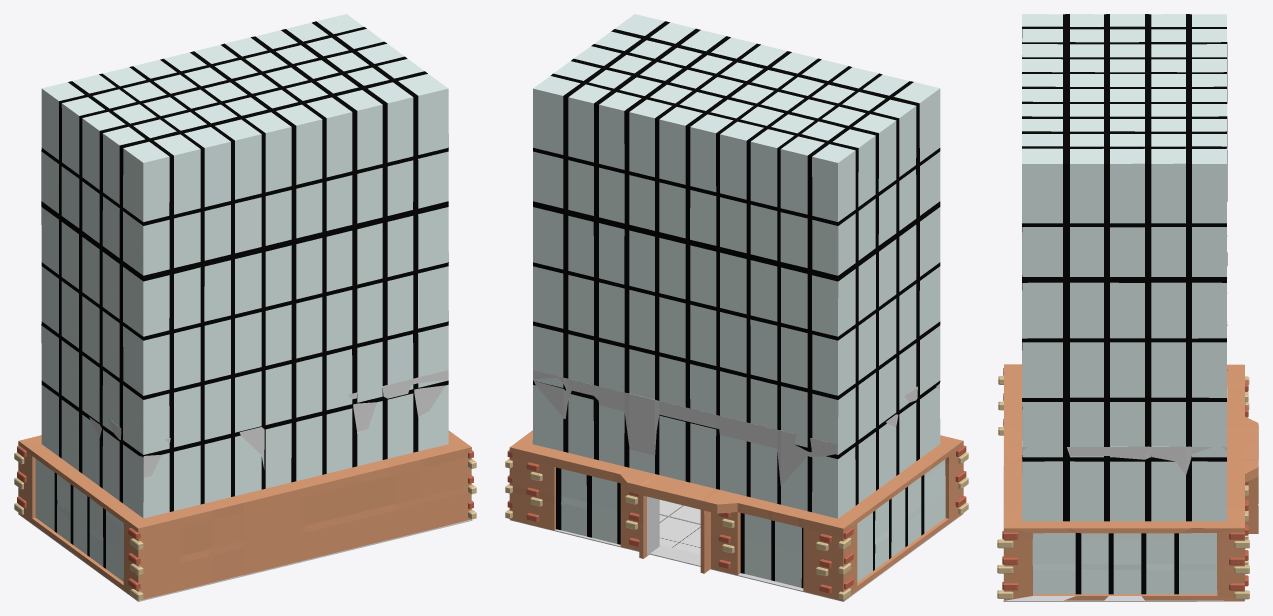
The model's file is Fam_Espelhada.fbx.
3 views of the same model, side by side, from view 1: azimuth 30°, elevation 25°; view 2: azimuth 150°, elevation 25°; view 3: azimuth 270°, elevation 25° (orthographic).
Visible parts, largest first — view 1: Cube.001, Cube.002, Cube.022, Cube.003; view 2: Cube.001, Cube.002, Cube.022, Cube.003; view 3: Cube.001, Cube.022, Cube.002, Cube.003.
Boxes of the visible parts, bbox=[...] form: Cube.001: bbox=[18, 14, 471, 600]; Cube.002: bbox=[89, 370, 448, 477]; Cube.022: bbox=[14, 446, 476, 600]; Cube.003: bbox=[18, 513, 472, 601]; Cube.001: bbox=[509, 14, 963, 601]; Cube.002: bbox=[533, 370, 939, 555]; Cube.022: bbox=[505, 445, 968, 599]; Cube.003: bbox=[510, 500, 963, 601]; Cube.001: bbox=[1004, 14, 1258, 600]; Cube.022: bbox=[997, 368, 1249, 599]; Cube.002: bbox=[1022, 387, 1227, 474]; Cube.003: bbox=[1003, 437, 1244, 601].
Bounding box in the file's own units: 8010 × 9695 × 5318.
